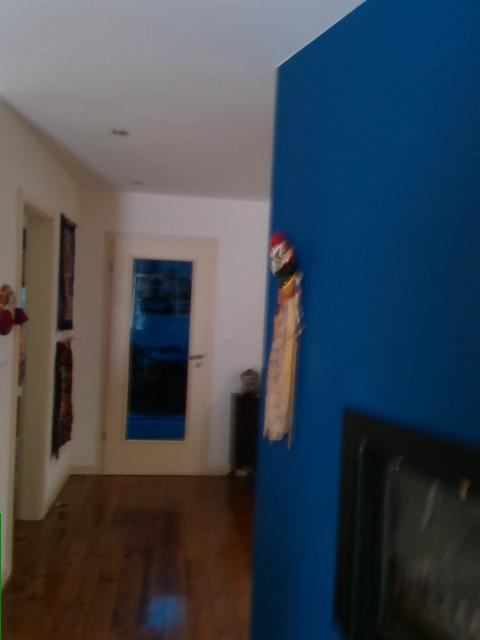door: (102, 233, 219, 472)
